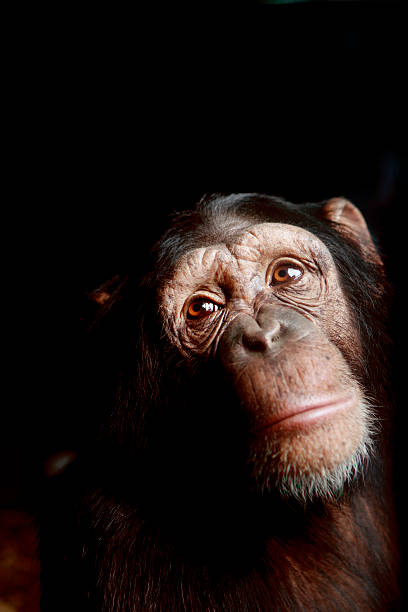chimpanzee: (30, 144, 404, 592)
